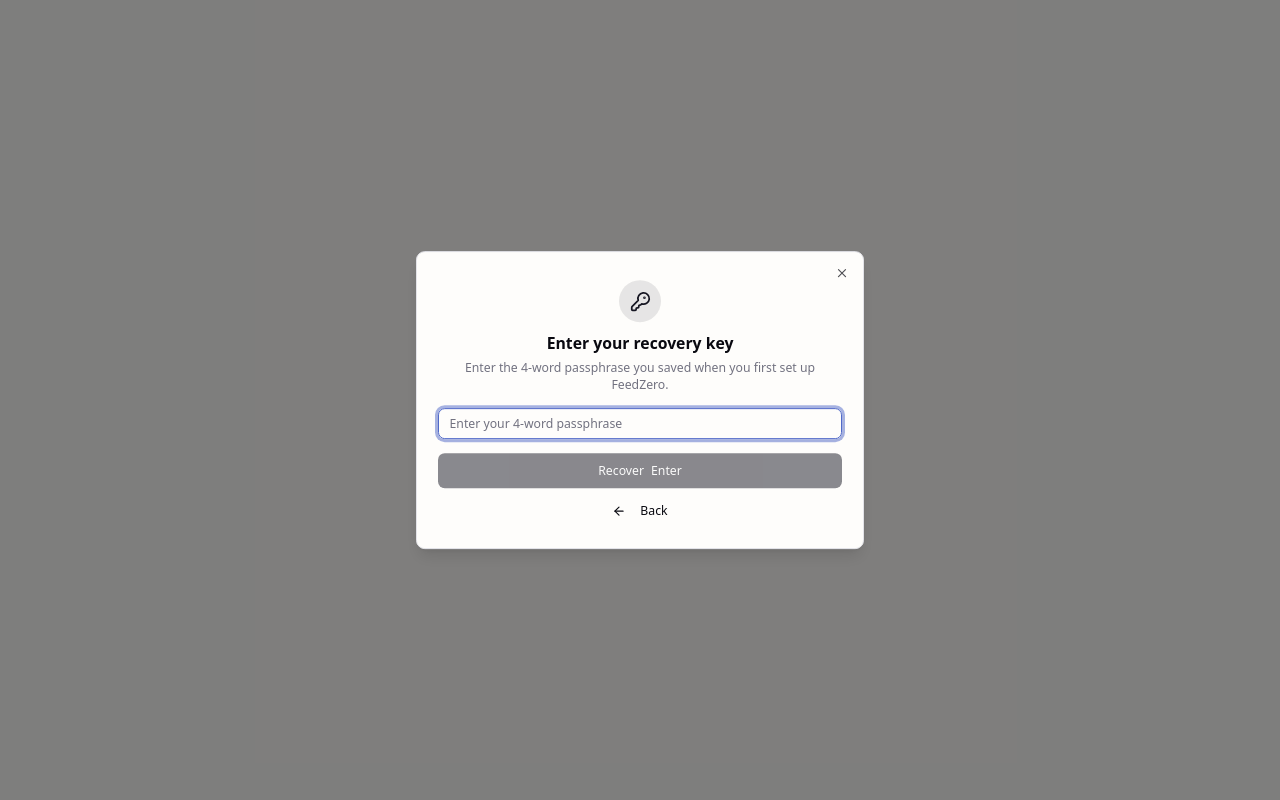
RecoveryStep › HEAD-first vault detection (ADR 014 A8) › short-circuits when checkVaultExists returns false — no pullVault, no initFresh
Type "wrong passphrase guessed here" into the field with placeholder "Enter your 4-word passphrase" at (640, 424), box [438,408,842,439]
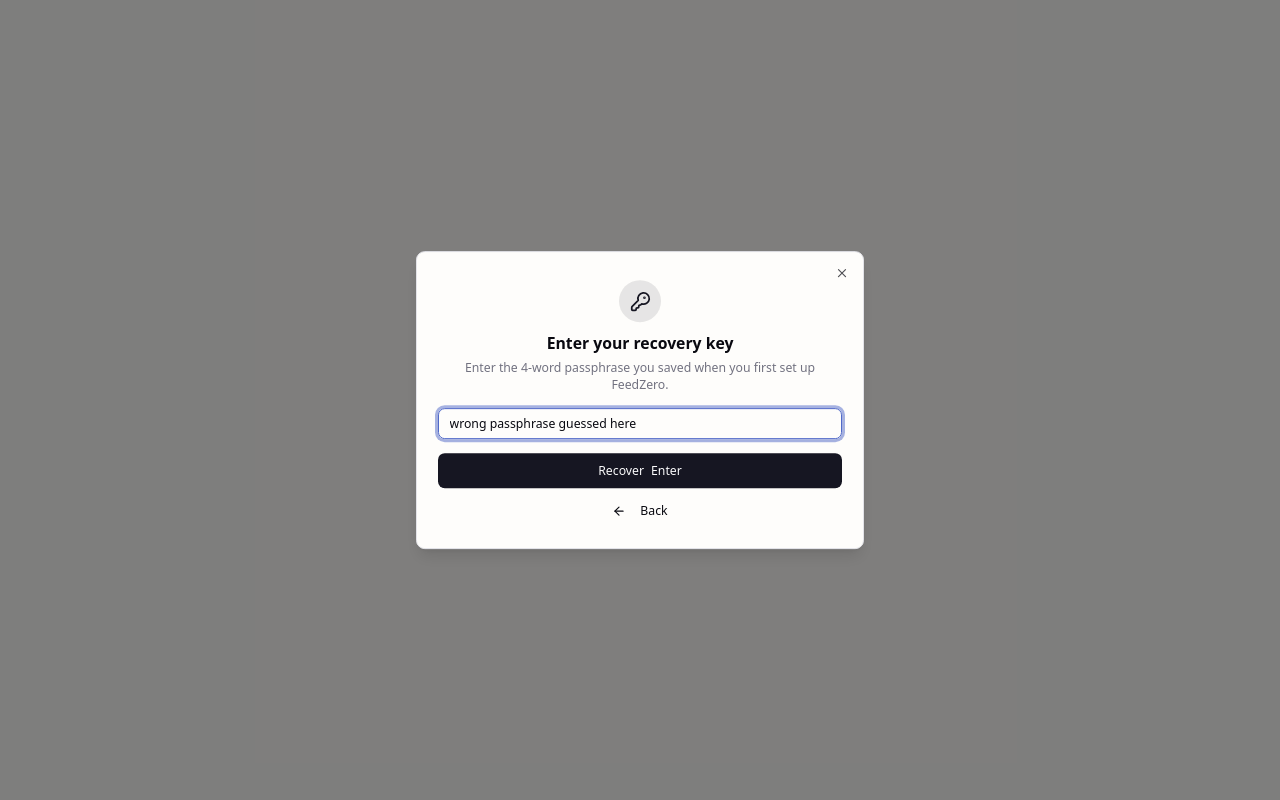
Click the button "Recover Enter" at (640, 471), box [438,453,842,488]
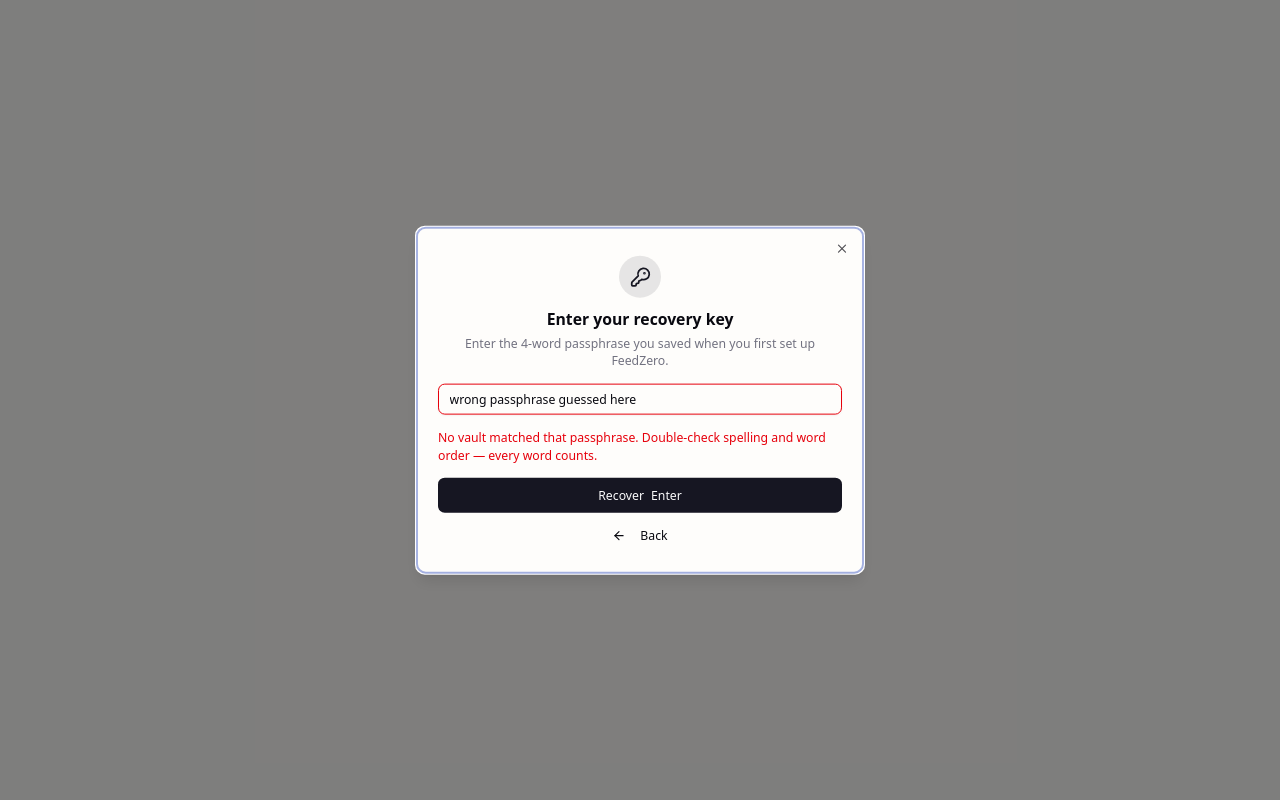
Expected: the text "No vault matched that passphrase" is shown, [438,429,826,463]
